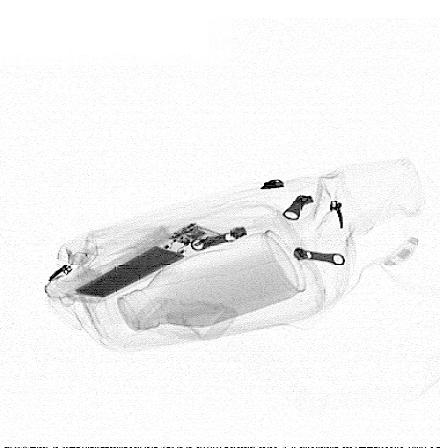Powerbank: (66, 222, 233, 304)
